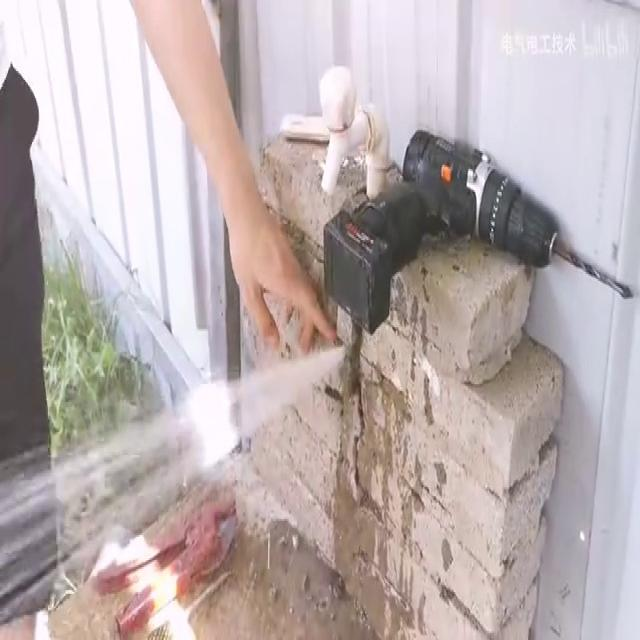leak: (0, 344, 351, 640)
